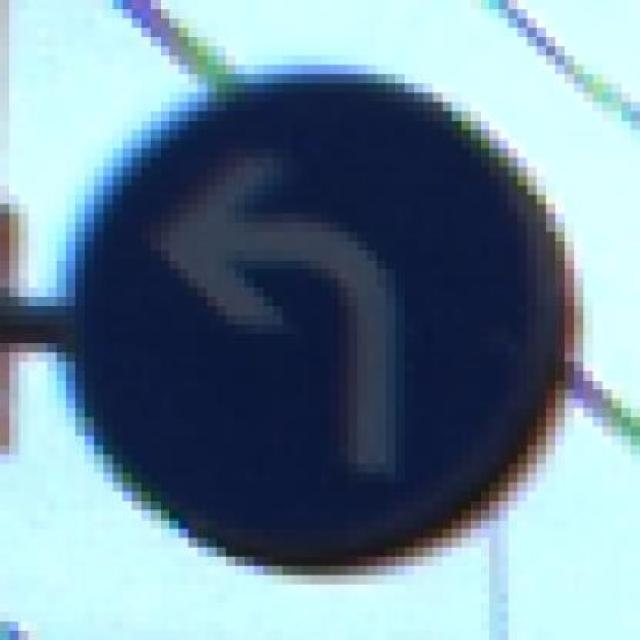Turn left ahead: (65, 46, 593, 585)
